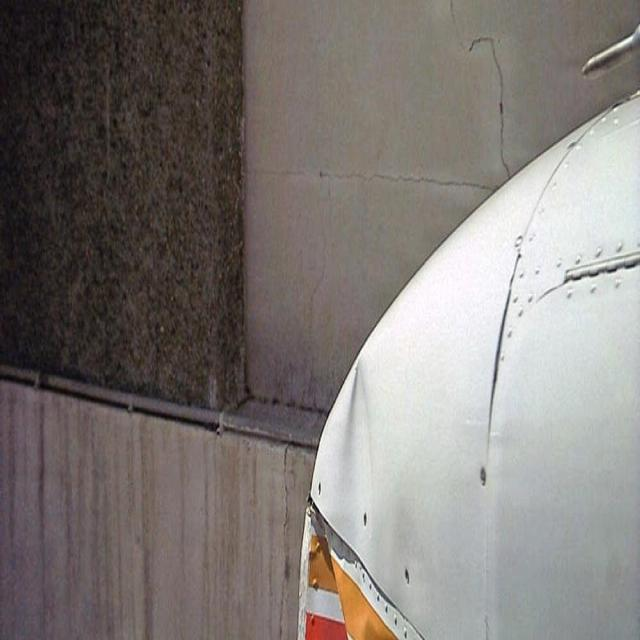dent: (297, 358, 379, 640)
